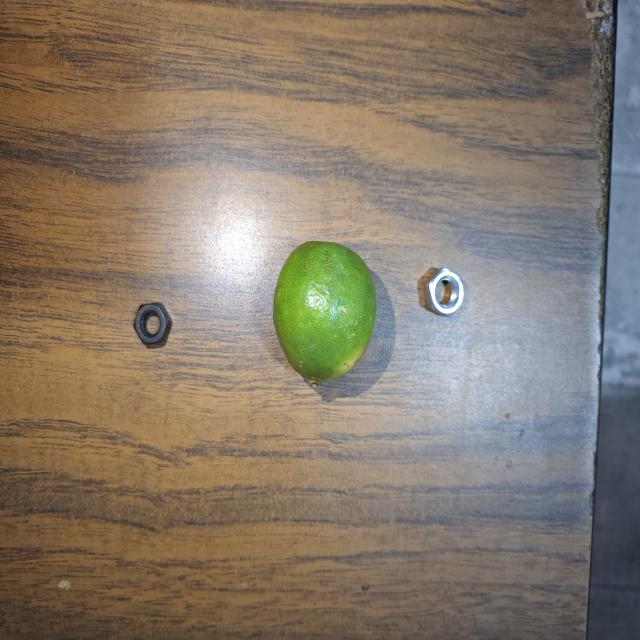limon: (273, 235, 386, 396)
milimetrico: (121, 278, 192, 360)
tuerca: (420, 261, 477, 327)
